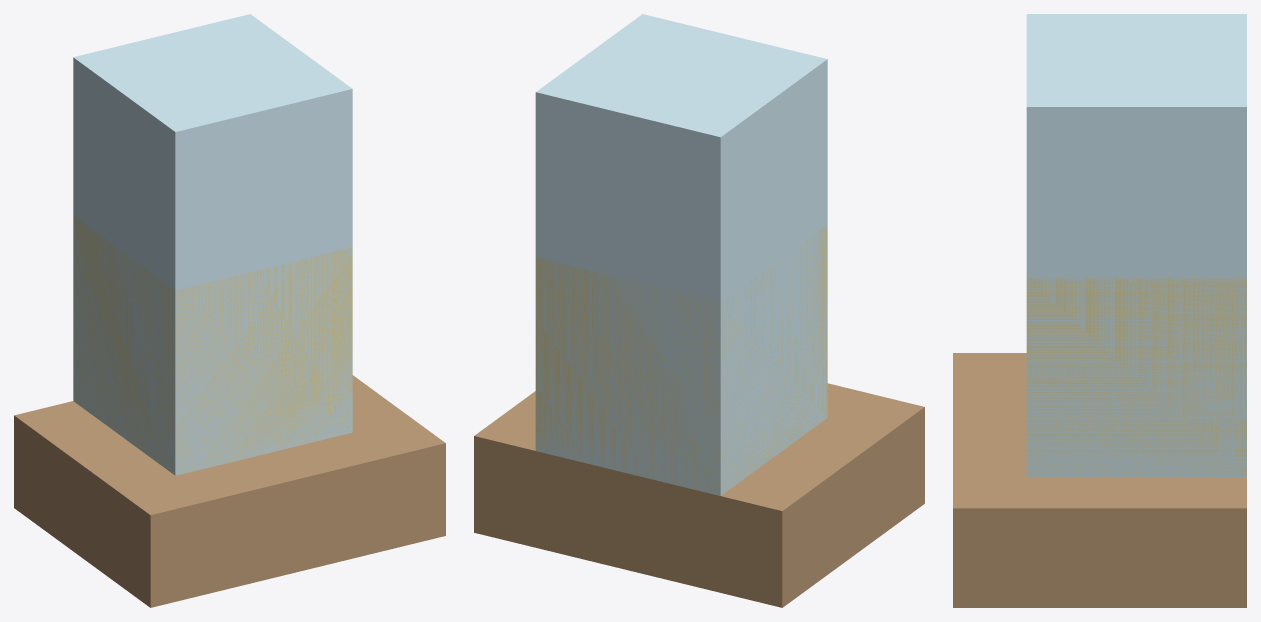
Rendered from Prop_Pet_AMF_Feeder_V11.glb.
3 renders of one model, left to right at view 1: azimuth 30°, elevation 25°; view 2: azimuth 150°, elevation 25°; view 3: azimuth 270°, elevation 25°, orthographic. The views are drawn at different scales.
Parts seen in each view (by area): view 1: Prop_Pet_AMF_Feeder_V11; view 2: Prop_Pet_AMF_Feeder_V11; view 3: Prop_Pet_AMF_Feeder_V11.
Part boxes in pixels (x1=…): Prop_Pet_AMF_Feeder_V11: x1=14, y1=14, x2=445, y2=607; Prop_Pet_AMF_Feeder_V11: x1=474, y1=14, x2=924, y2=607; Prop_Pet_AMF_Feeder_V11: x1=953, y1=14, x2=1246, y2=607.
Size of the model in its own units: 0.5 by 0.7061 by 0.4.
